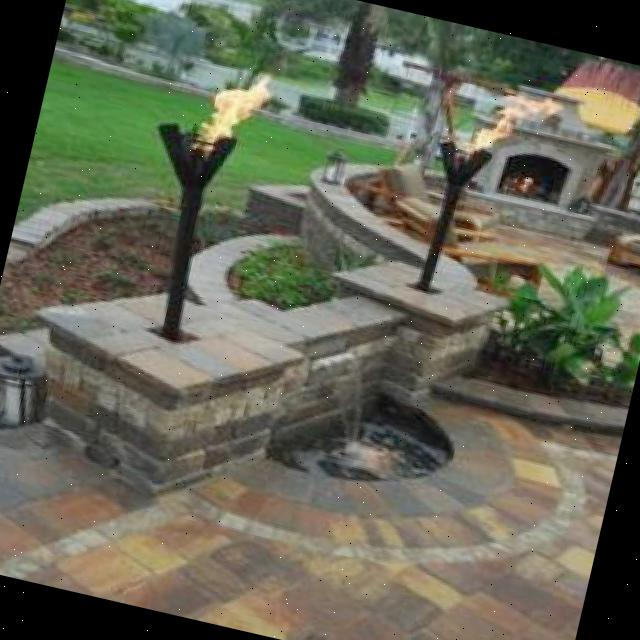fire: (456, 75, 565, 179), (188, 50, 284, 155)
